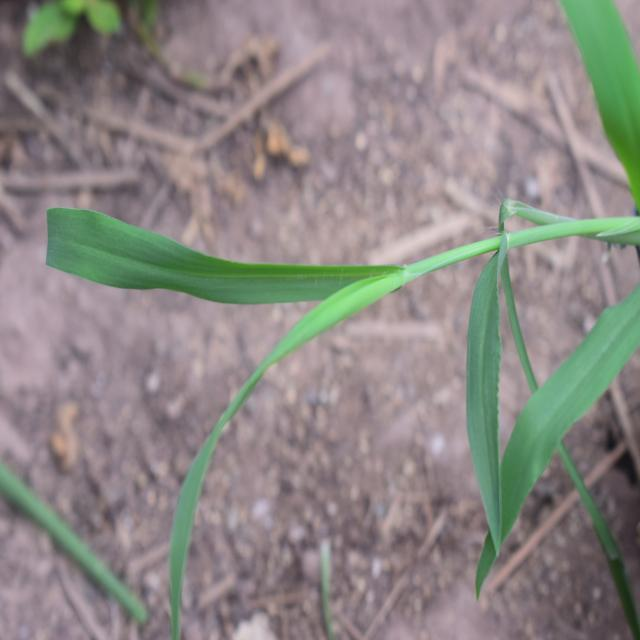crabgrass: (42, 148, 572, 560)
